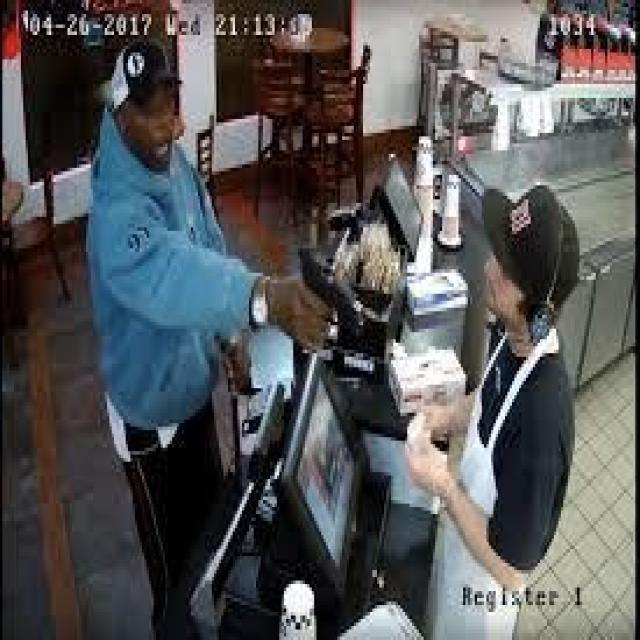gun: (295, 249, 364, 341)
